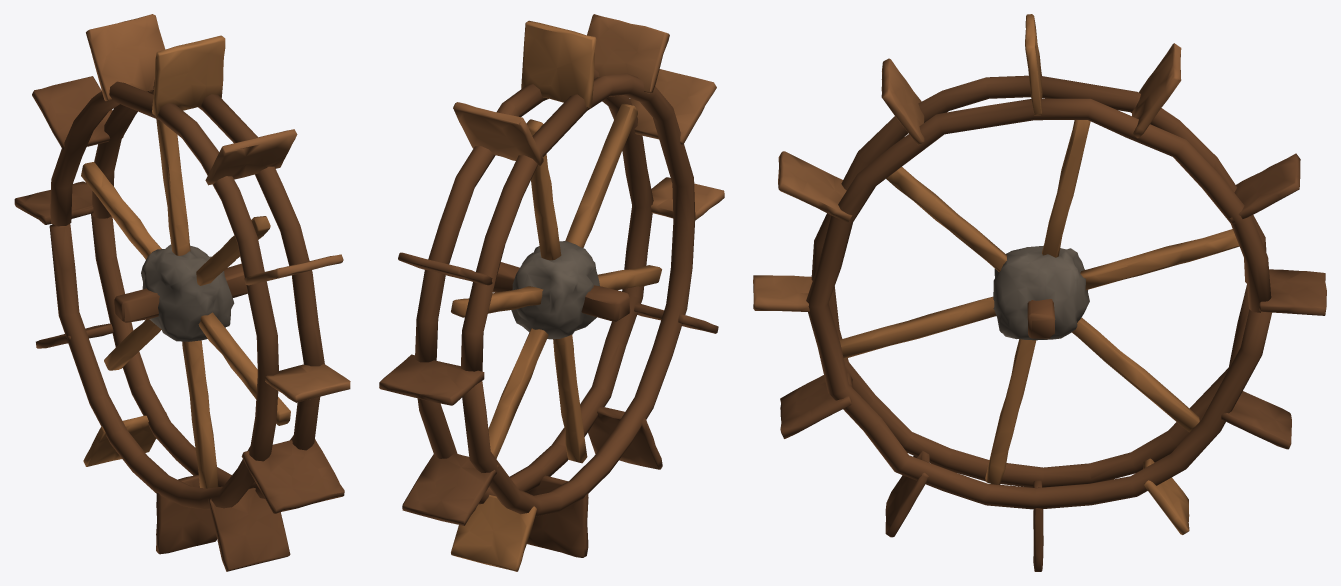
File: glade_mill_wheel.glb
3 renders of one model, left to right at view 1: azimuth 30°, elevation 25°; view 2: azimuth 150°, elevation 25°; view 3: azimuth 270°, elevation 25°, orthographic. The views are drawn at different scales.
Parts seen in each view (by area): view 1: glade_mill_wheel; view 2: glade_mill_wheel; view 3: glade_mill_wheel.
Part boxes in pixels (left/top/right/bottom): glade_mill_wheel: left=14, top=14, right=350, bottom=571; glade_mill_wheel: left=379, top=14, right=724, bottom=571; glade_mill_wheel: left=753, top=14, right=1326, bottom=571.
Bounding box in the file's own units: 2.24 × 8 × 7.86.
